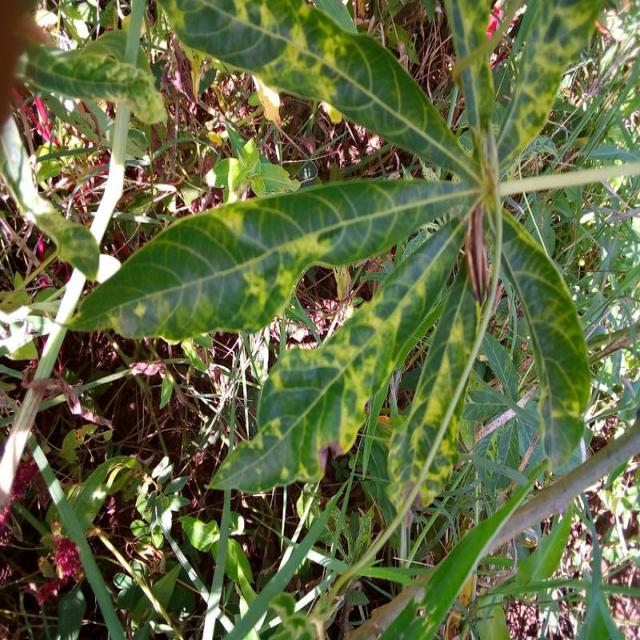cassava leaf: (66, 0, 604, 522), (206, 212, 470, 495), (64, 174, 475, 344), (155, 0, 482, 183), (491, 204, 592, 476), (13, 28, 165, 126)
